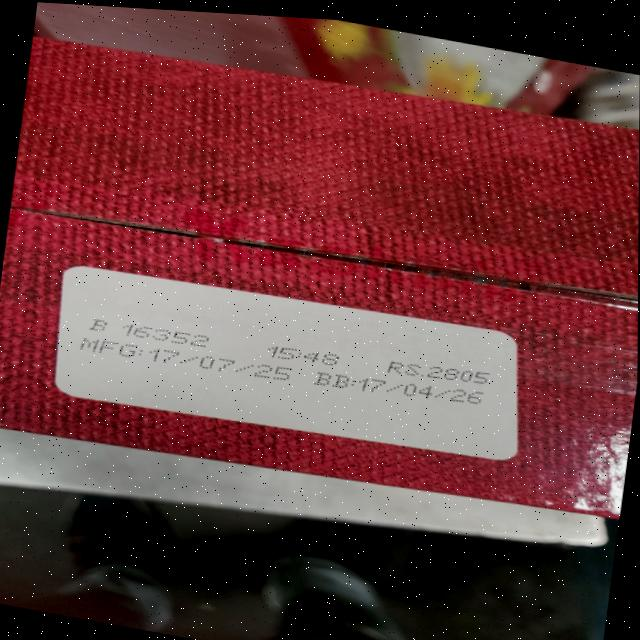BB: (314, 362, 485, 415)
Batch: (86, 314, 213, 352)
MFG: (78, 329, 302, 394)
RS: (387, 354, 493, 390)
TimeStamp: (266, 341, 342, 370)
